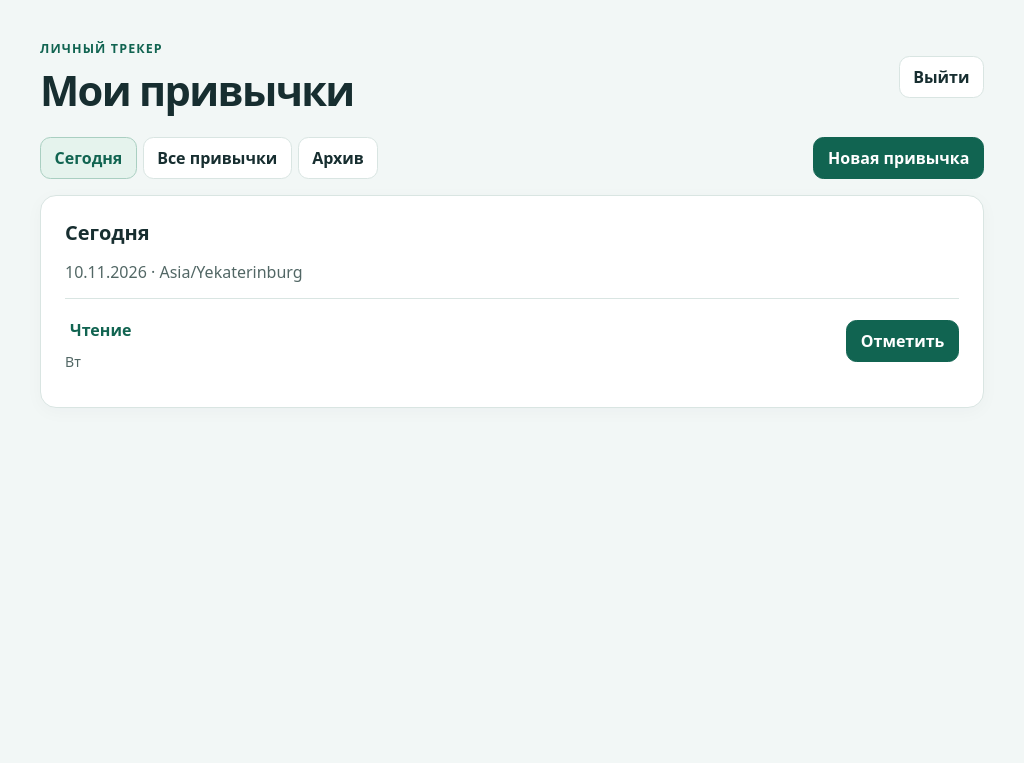
Test: Привычки › игнорирует поздний ответ от предыдущей карточки
Expected: the button "Отметить" is enabled, [846,320,959,362]
Step 1. Click the button "Все привычки" → click(217, 158), box [142,137,292,179]
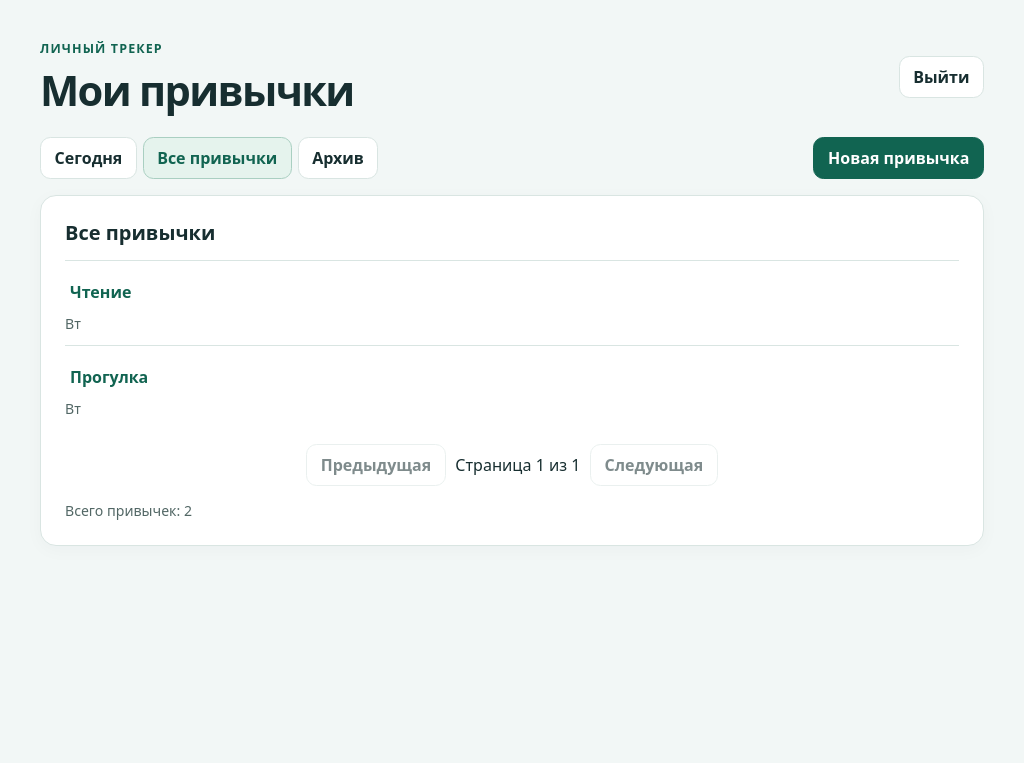
Step 2. Click the button "Чтение" → click(106, 292), box [65,271,146,313]
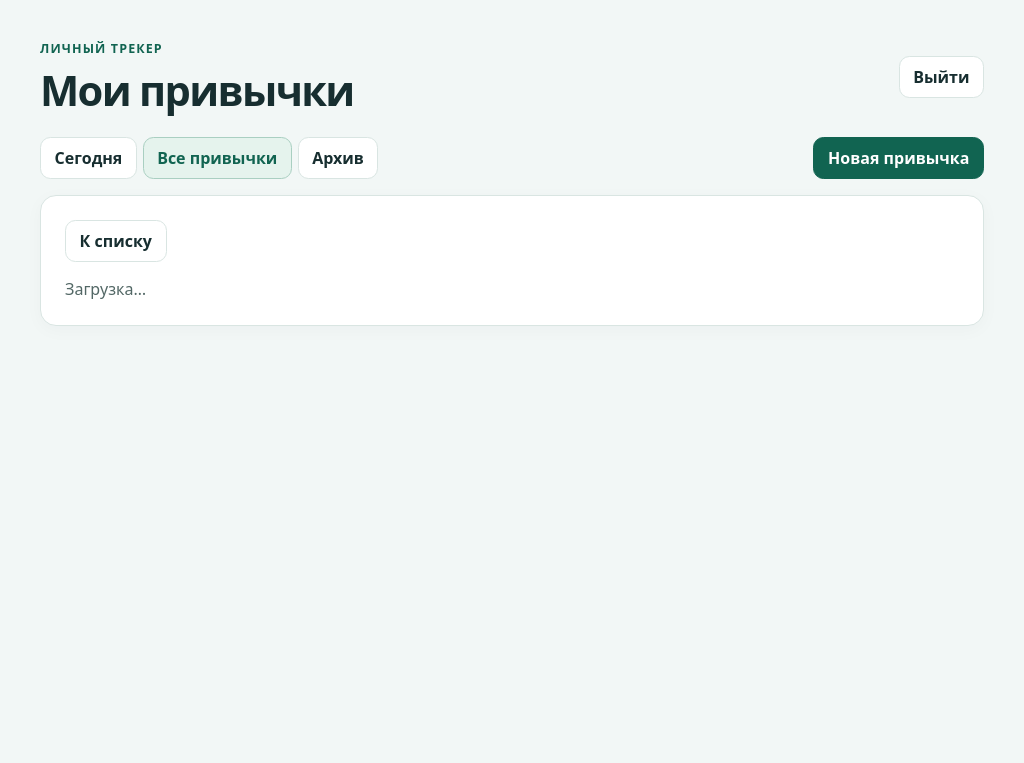
Step 3. Click the button "К списку" → click(116, 241), box [65,220,166,262]
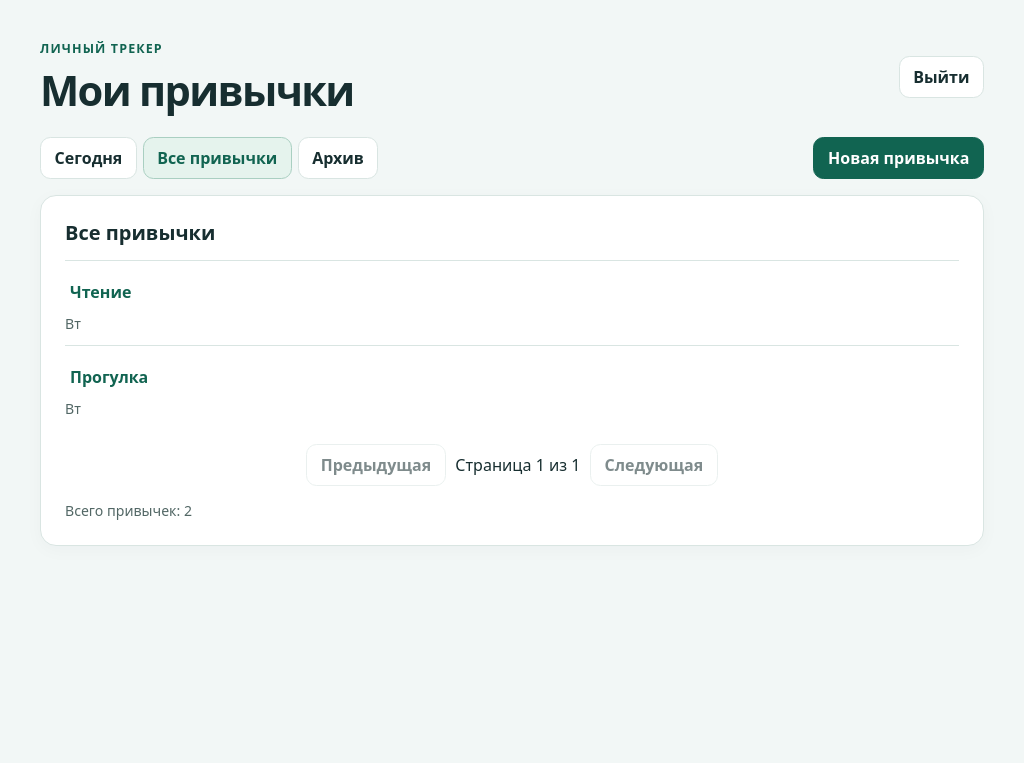
Step 4. Click the button "Прогулка" → click(114, 377), box [65,356,163,398]
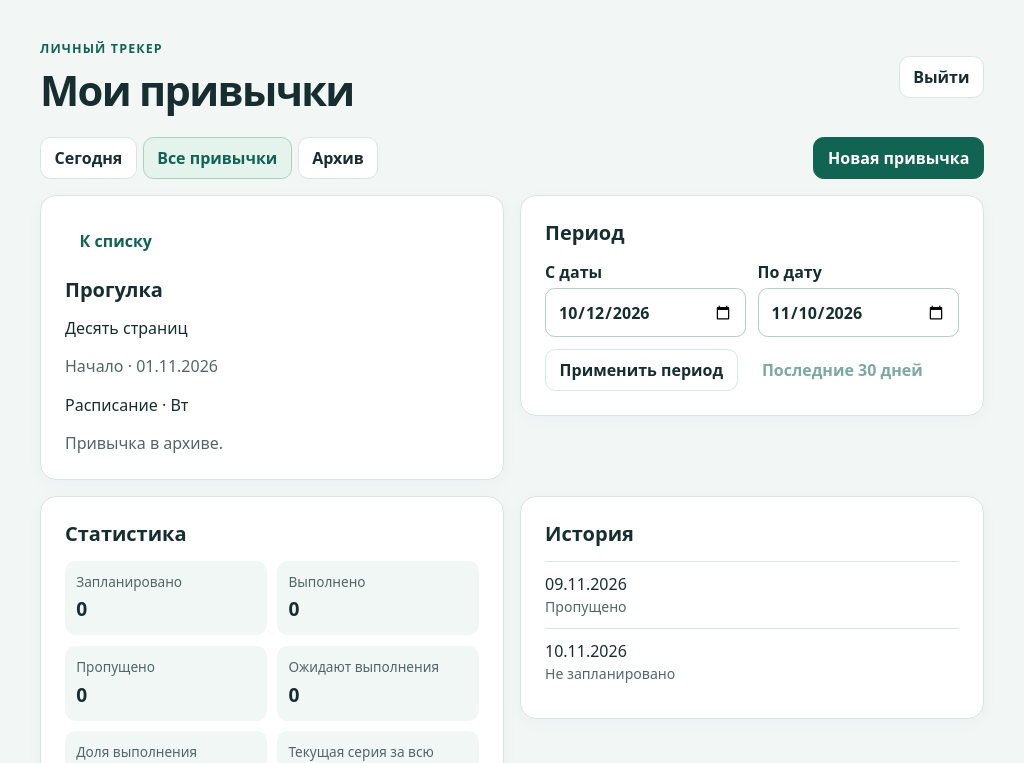
Now the heading "Прогулка" is shown, box [65,276,163,303]
Now the button "Чтение" is gone
